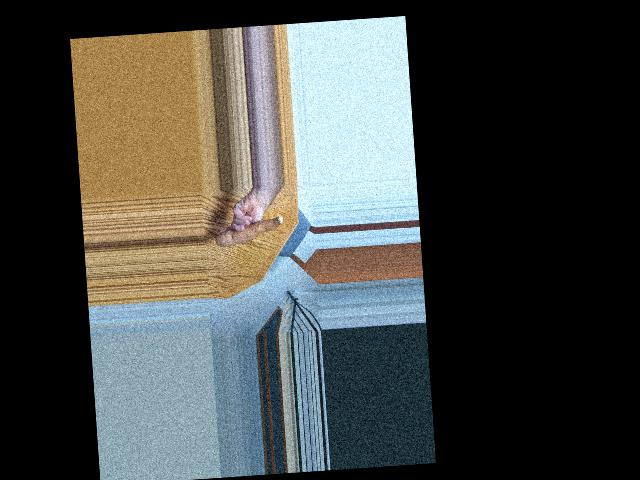sweet_potato: (215, 213, 286, 249)
